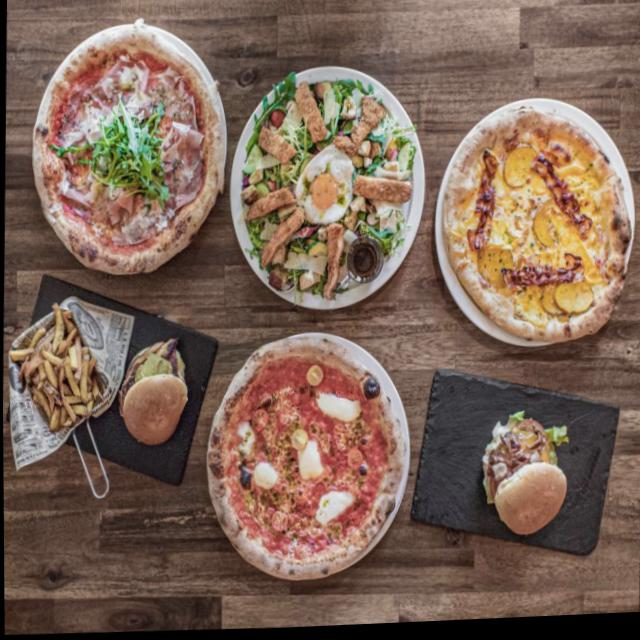burger: (475, 409, 571, 545), (114, 336, 190, 450)
pizza: (27, 24, 224, 282), (201, 334, 401, 588), (437, 105, 633, 358)
